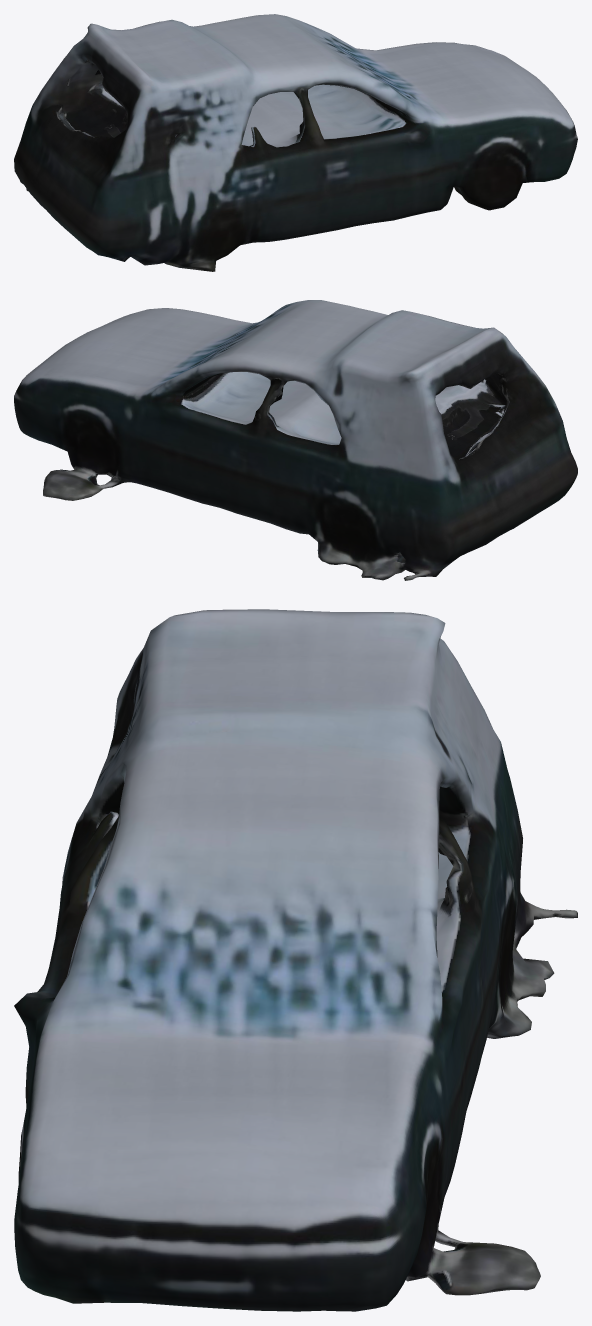
File: abandoned_car03.glb
3 renders of one model, top to bottom at view 1: azimuth 30°, elevation 25°; view 2: azimuth 150°, elevation 25°; view 3: azimuth 270°, elevation 25°, orthographic. The views are drawn at different scales.
Parts seen in each view (by area): view 1: mesh; view 2: mesh; view 3: mesh.
Boxes of the visible parts, x1,y1,x2,y2 form: mesh: (14,14,577,271); mesh: (14,300,577,580); mesh: (14,609,577,1311).
Size of the model in its own units: 0.9995 by 0.3653 by 0.5162.
1 material, 1 textured.
